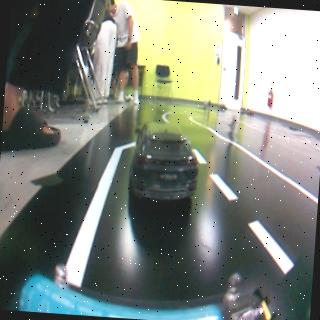car: (128, 117, 199, 197)
